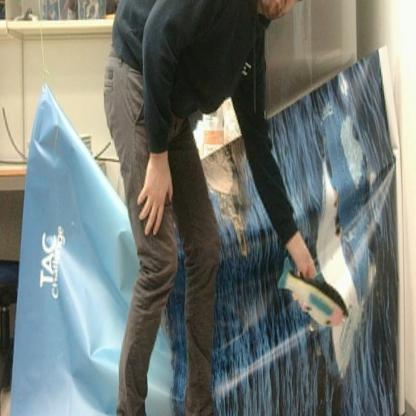rubberfish: (271, 250, 355, 336)
